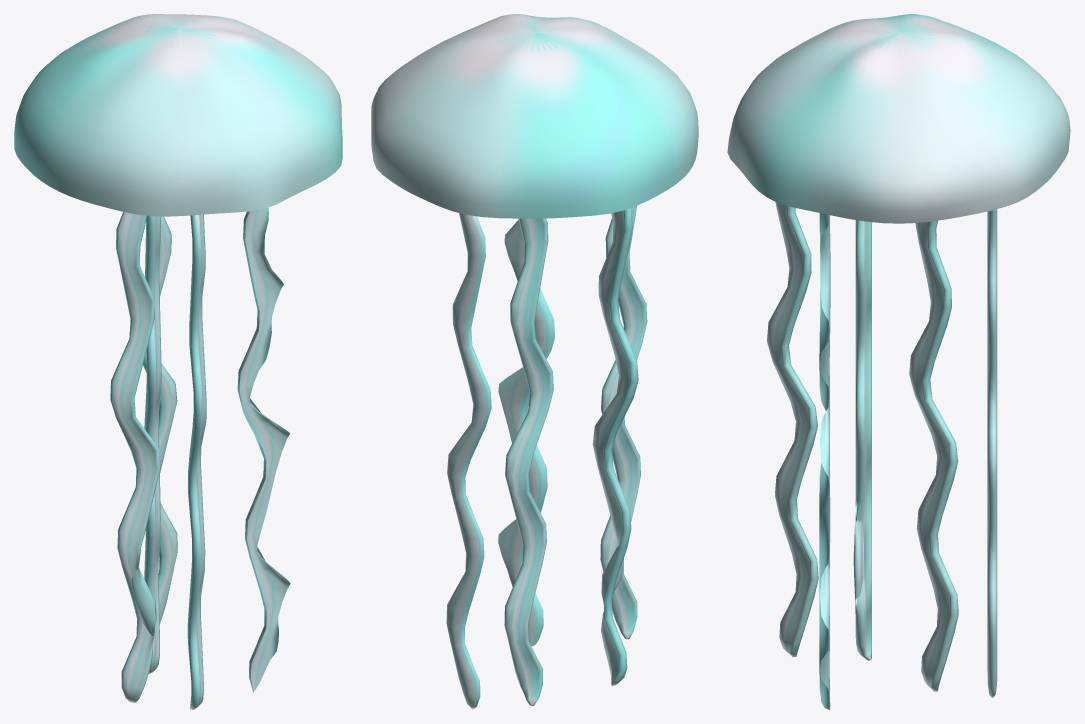
The model's file is kurage.fbx.
3 renders of one model, left to right at view 1: azimuth 30°, elevation 25°; view 2: azimuth 150°, elevation 25°; view 3: azimuth 270°, elevation 25°, orthographic.
Visible parts, largest first — view 1: 球; view 2: 球; view 3: 球.
Boxes of the visible parts, <box> form: 球: <box>14,14,342,709</box>; 球: <box>371,14,698,709</box>; 球: <box>727,14,1070,709</box>.
Size of the model in its own units: 14.77 by 31.9 by 14.91.
1 material, 1 textured.
